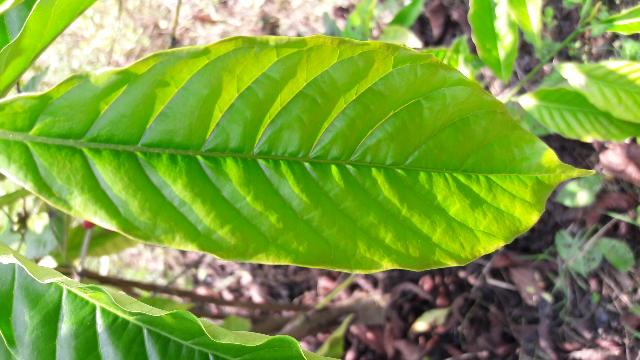healthy: (0, 37, 585, 271)
